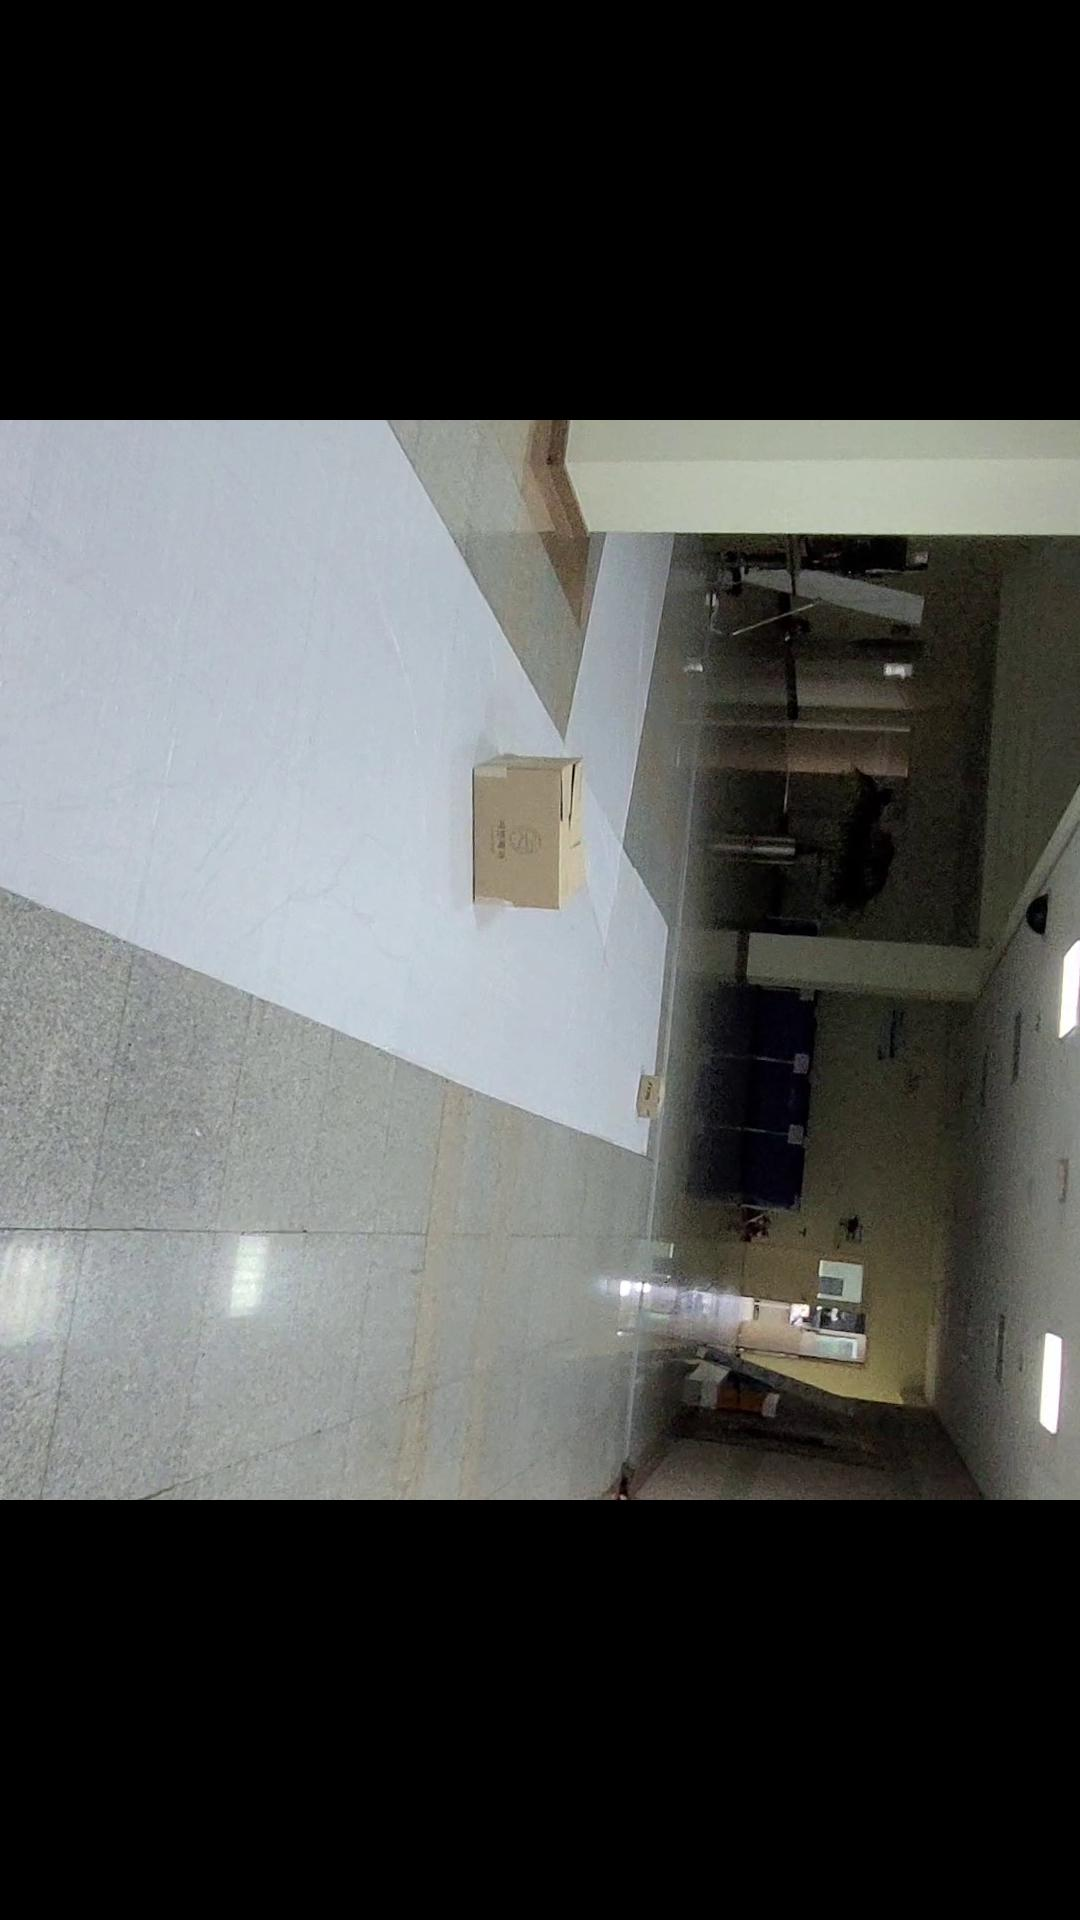Box: (455, 752, 600, 918), (632, 1062, 667, 1130)
